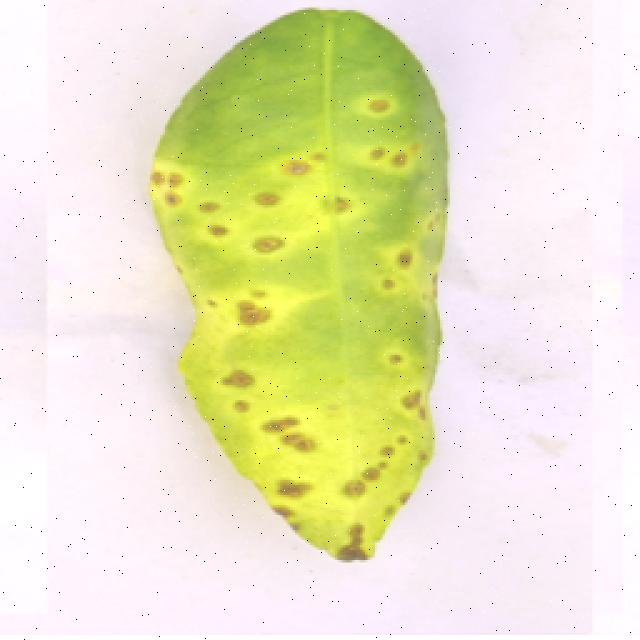canker: (139, 102, 483, 561)
